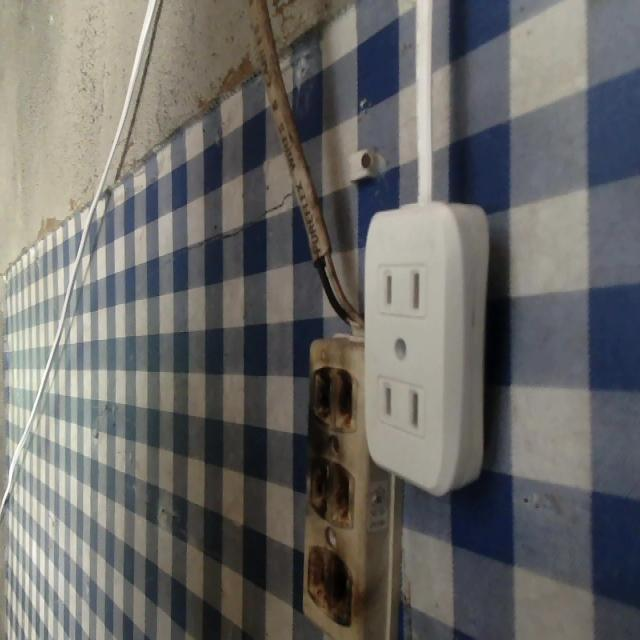-: (303, 544, 363, 633), (309, 353, 365, 436), (305, 453, 361, 524)
